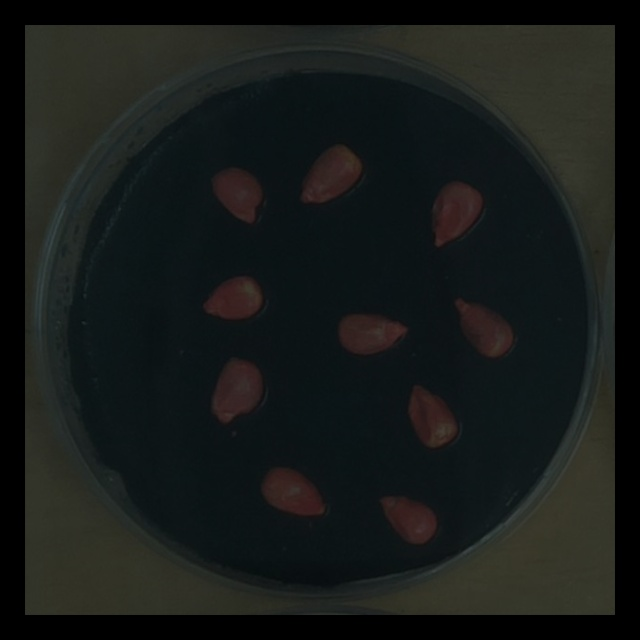Zea mays: (294, 135, 370, 211), (447, 288, 520, 363), (203, 349, 270, 430), (424, 171, 490, 251), (202, 159, 271, 230), (252, 458, 331, 520), (400, 377, 464, 453), (373, 484, 444, 551), (331, 304, 415, 360), (196, 267, 270, 325)
